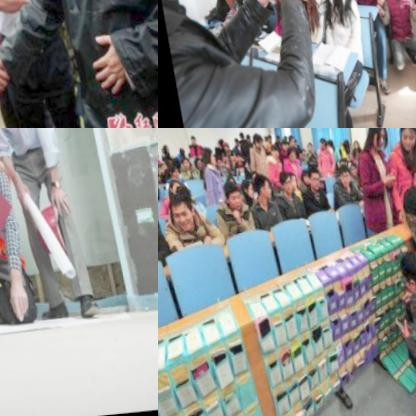head: (164, 194, 191, 233), (392, 250, 416, 291), (395, 184, 416, 228), (218, 177, 239, 211), (249, 173, 270, 201), (362, 128, 387, 151), (394, 128, 416, 151), (303, 167, 320, 192), (406, 216, 416, 258), (199, 145, 216, 168), (274, 169, 290, 193), (334, 167, 349, 189), (249, 133, 261, 150), (284, 172, 295, 190), (166, 177, 177, 195), (297, 168, 308, 185), (166, 163, 178, 178), (266, 143, 277, 159), (409, 128, 416, 153), (178, 155, 189, 170), (283, 148, 294, 163), (185, 131, 196, 145), (313, 135, 324, 149), (229, 148, 240, 162), (158, 139, 167, 152), (346, 161, 354, 175), (190, 157, 201, 167), (323, 139, 332, 150), (303, 140, 311, 152), (286, 134, 293, 147), (337, 138, 345, 149), (220, 140, 227, 152), (262, 131, 270, 141), (278, 140, 285, 151), (349, 138, 356, 149), (230, 136, 237, 147), (297, 147, 304, 157), (235, 130, 242, 140), (336, 159, 343, 168), (175, 146, 181, 155), (243, 132, 248, 142)
